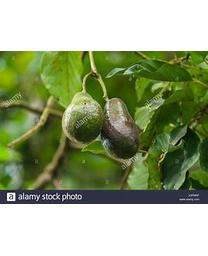avocado: (59, 88, 106, 146), (102, 95, 141, 159)
